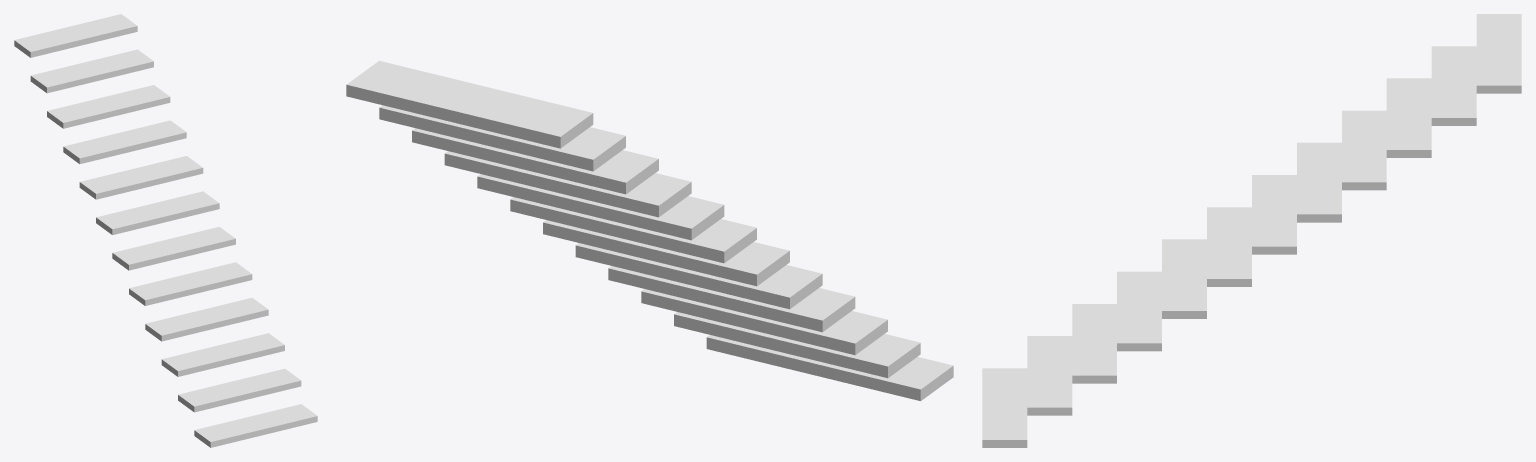
Rendered from Stairs_058.glb.
3 renders of one model, left to right at view 1: azimuth 30°, elevation 25°; view 2: azimuth 150°, elevation 25°; view 3: azimuth 270°, elevation 25°, orthographic. The views are drawn at different scales.
Parts seen in each view (by area): view 1: Stairs_058; view 2: Stairs_058; view 3: Stairs_058.
Part boxes in pixels (bbox=[...]): Stairs_058: bbox=[14, 14, 317, 447]; Stairs_058: bbox=[346, 60, 953, 401]; Stairs_058: bbox=[982, 14, 1521, 447].
Bounding box in the file's own units: 1.6 × 3.77 × 5.08.
Materials: 1 (1 with a texture image).
